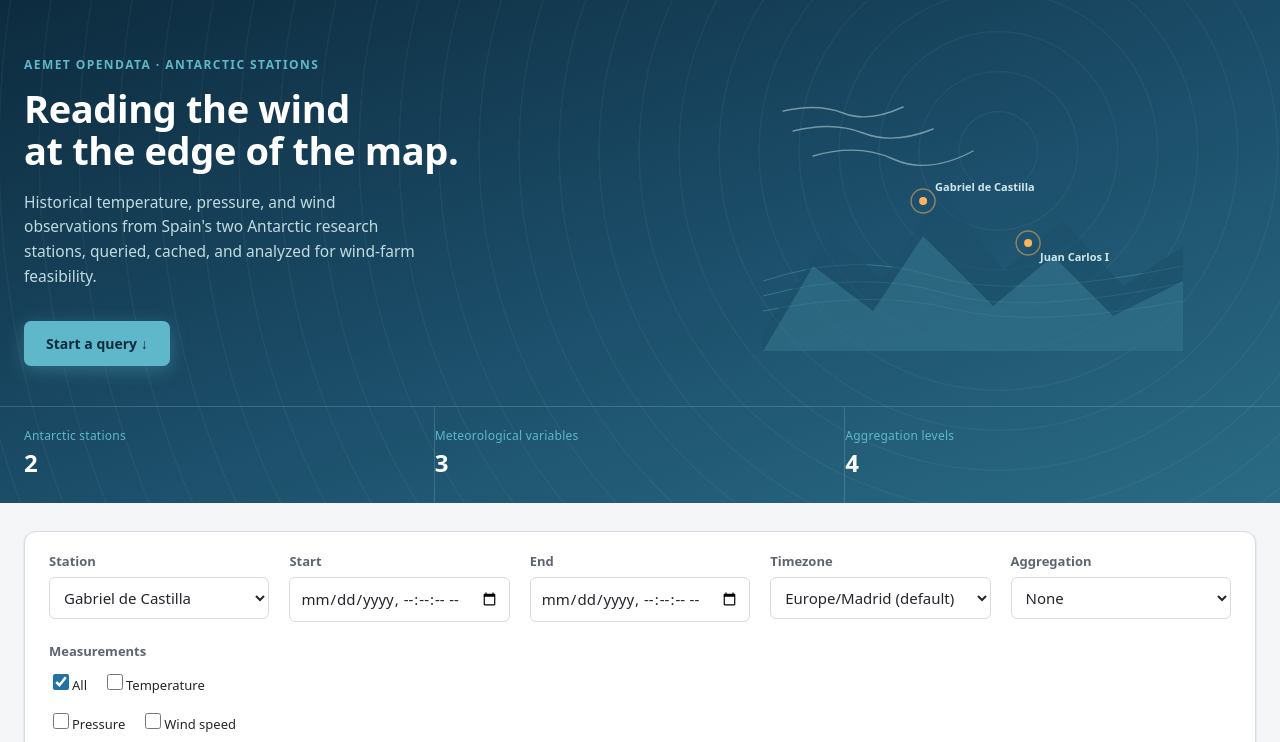
Scenario: App › full hero and intro features are replaced by the compact header once a query is submitted
Type "2024-01-15T00:00:00" into the field labelled "Start" at (400, 600), box [289,577,510,622]
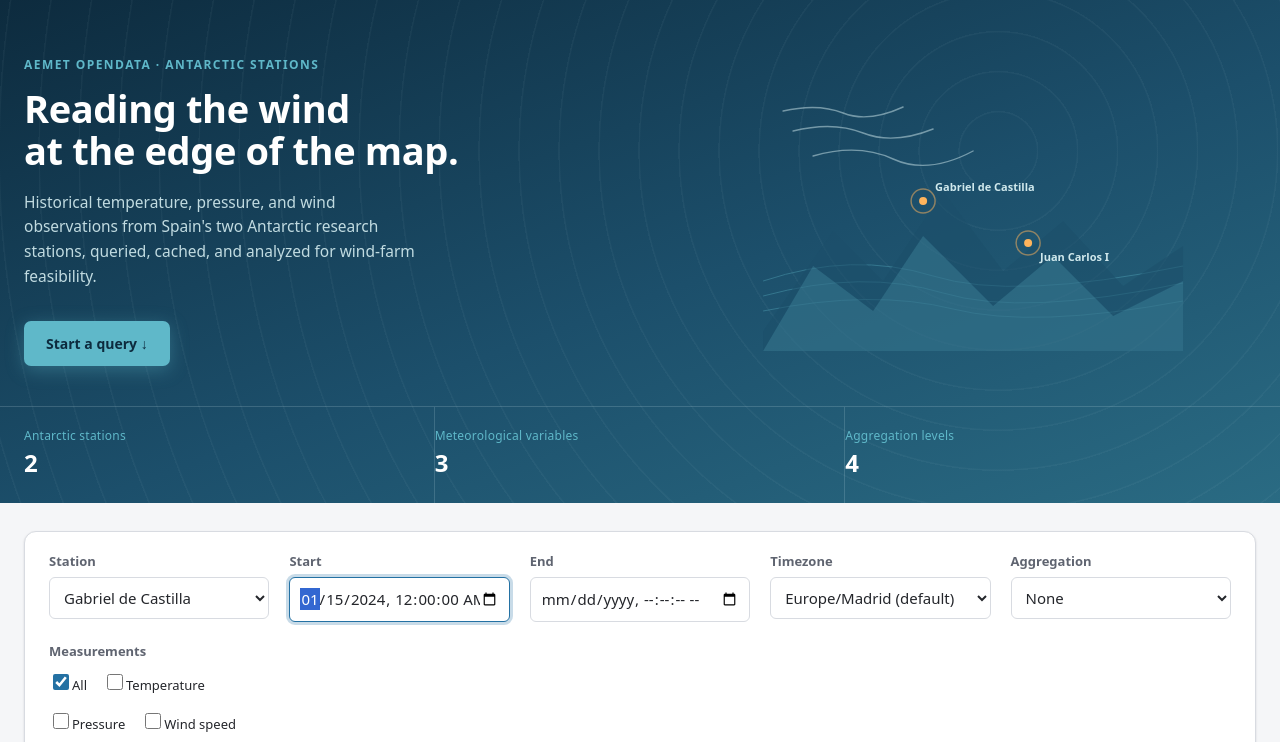
Type "2024-01-15T06:00:00" into the field labelled "End" at (640, 600), box [530,577,750,622]
(page scrolled)
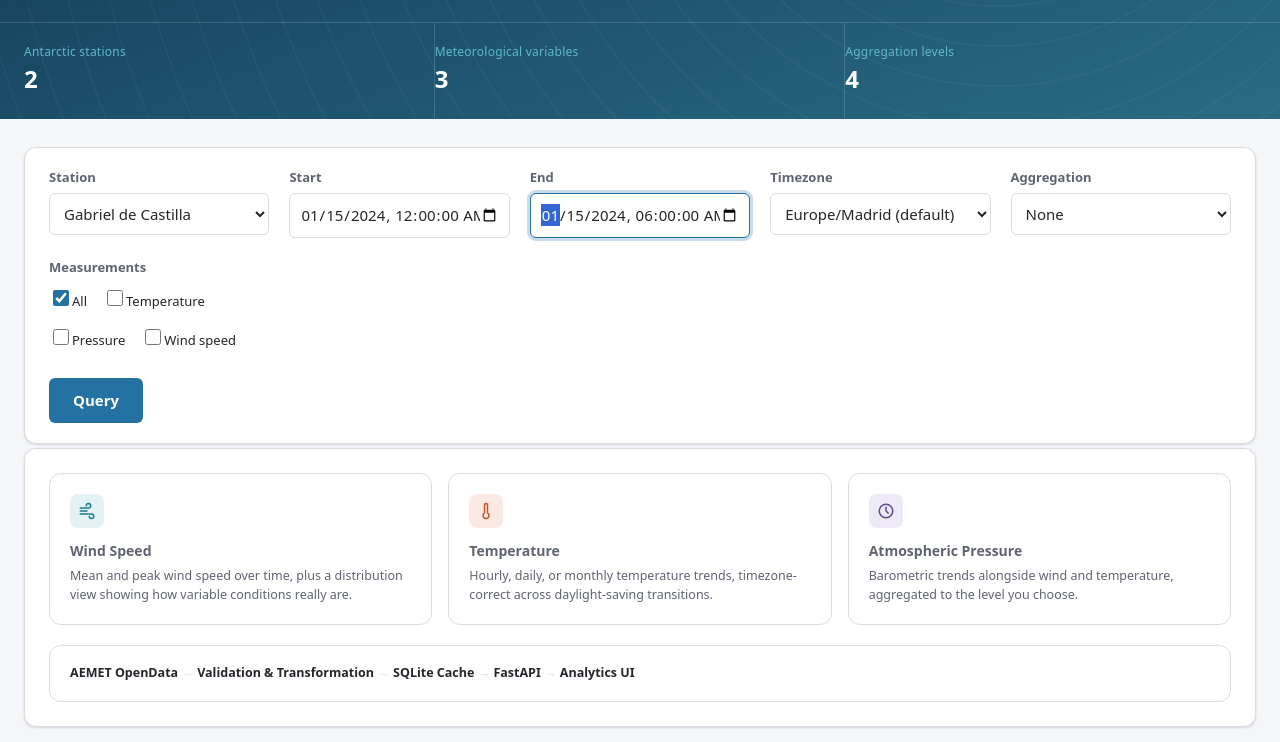
Click the button "Query" at (96, 401), box [49,378,143,423]
(page scrolled)
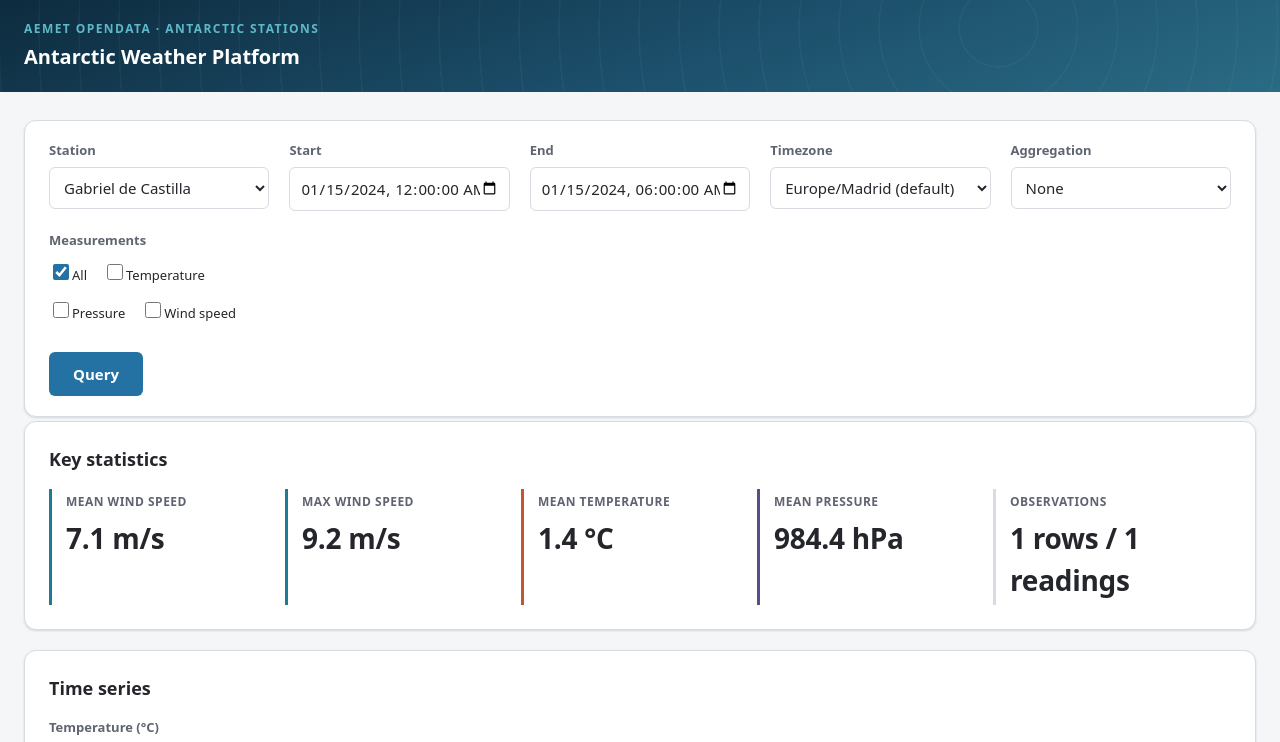
Now the heading "Antarctic Weather Platform" is shown, box [24,43,300,70]
